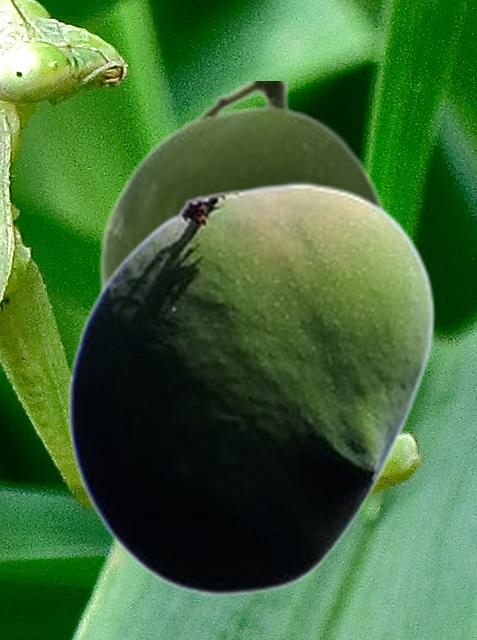green_mango: (66, 181, 436, 595), (96, 81, 392, 295)
